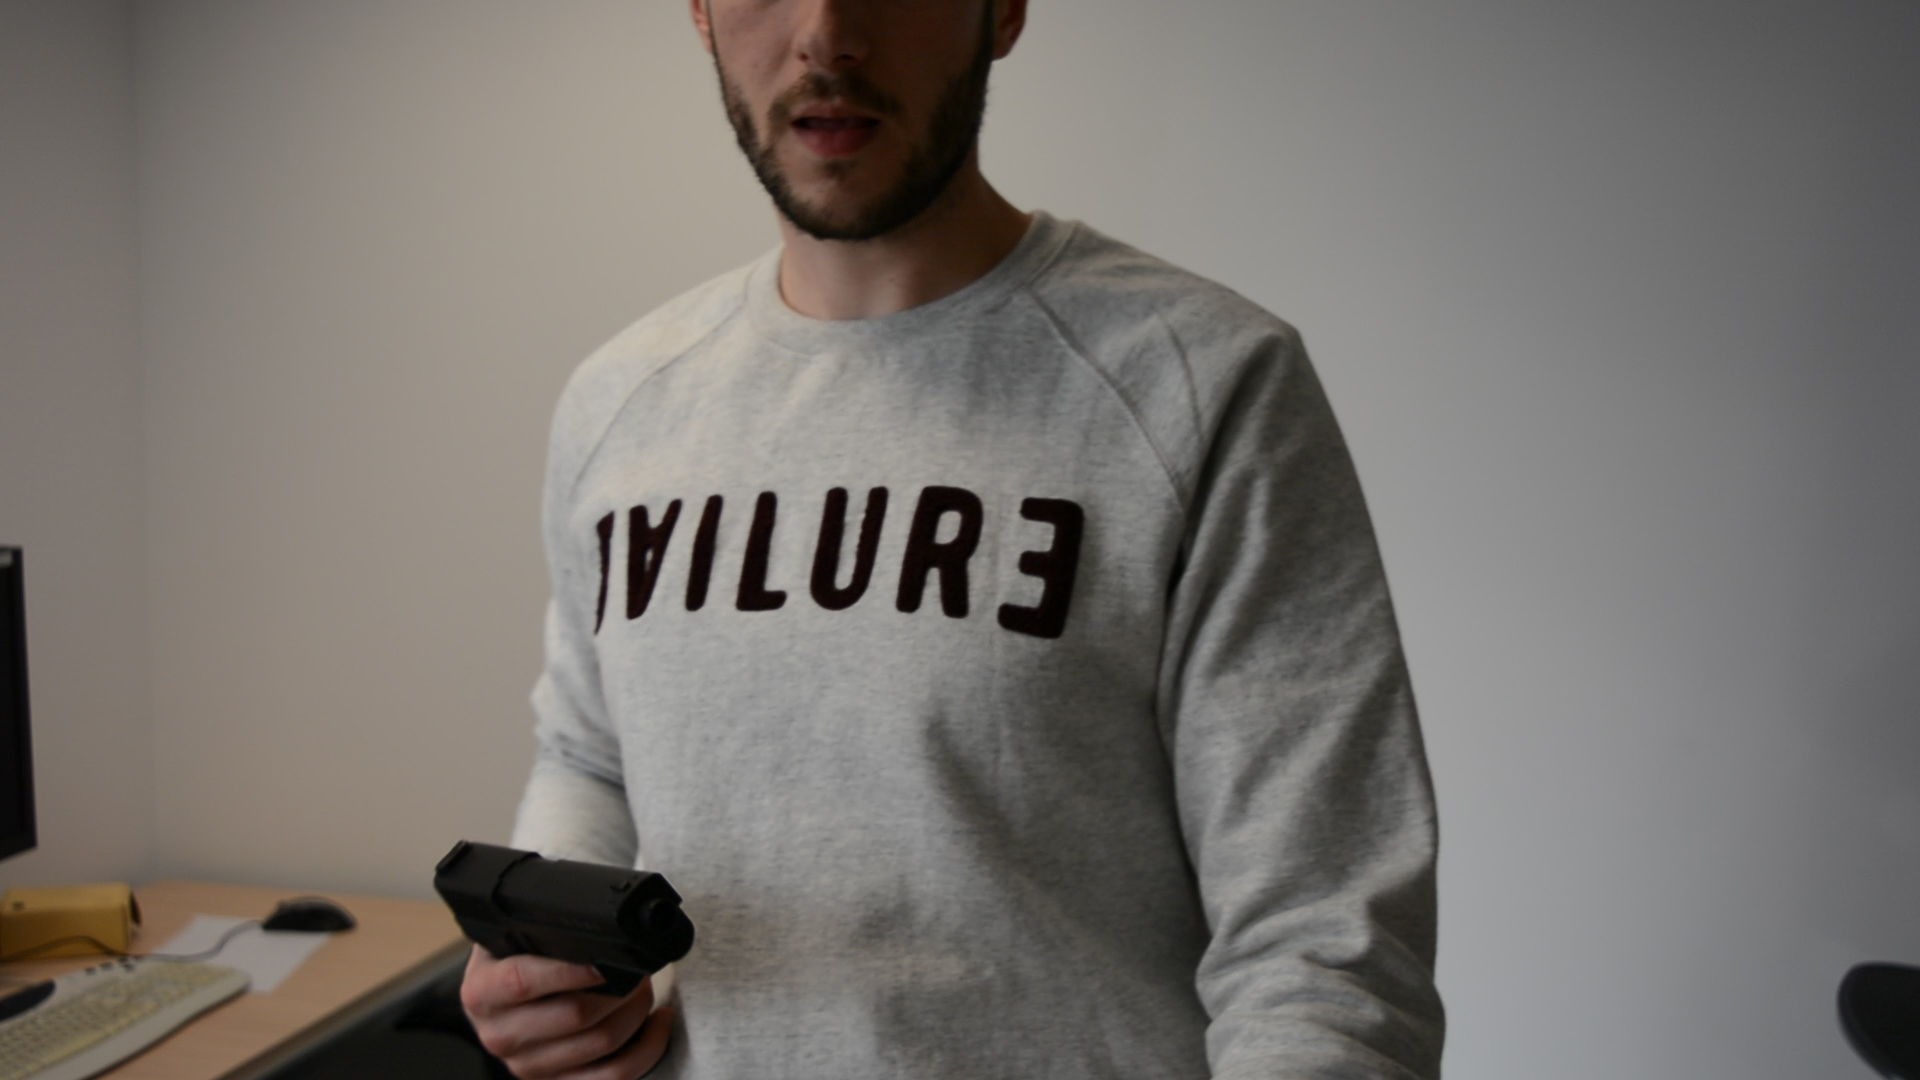pistol: (433, 837, 698, 1000)
